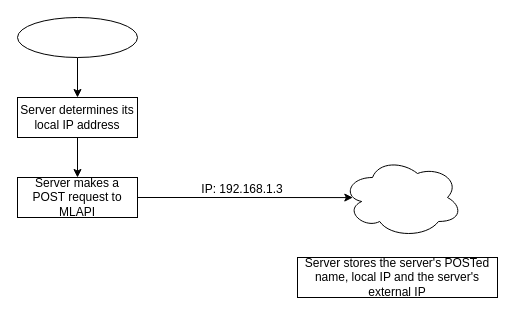
This 515x316 diagram has some shape labels left out. Each missing label, with the centre of its shape:
MLAPI: the point at 402,197
Server is started: the point at 77,37
